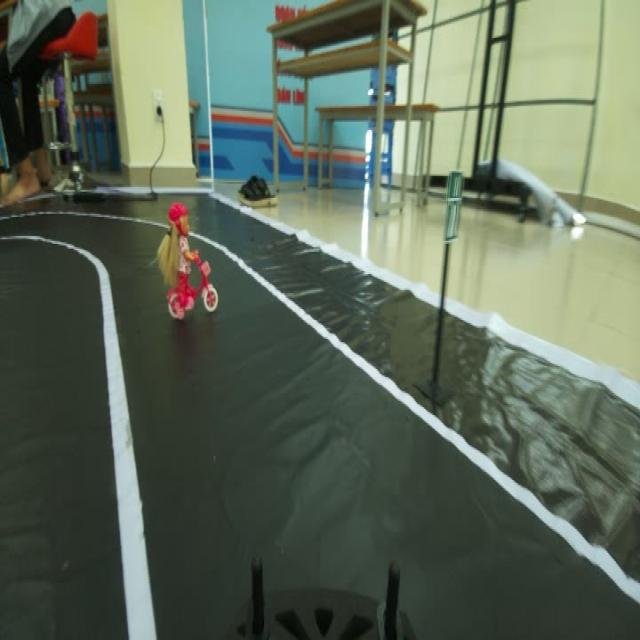highway_entry: (438, 166, 470, 240)
pedestrian: (148, 205, 230, 322)
